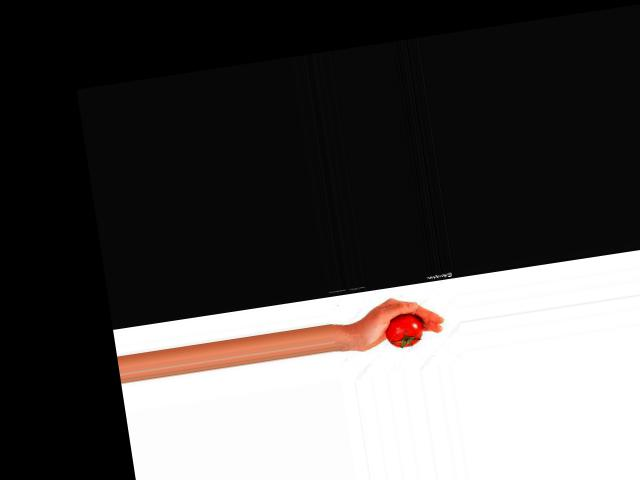tomato: (382, 312, 423, 349)
